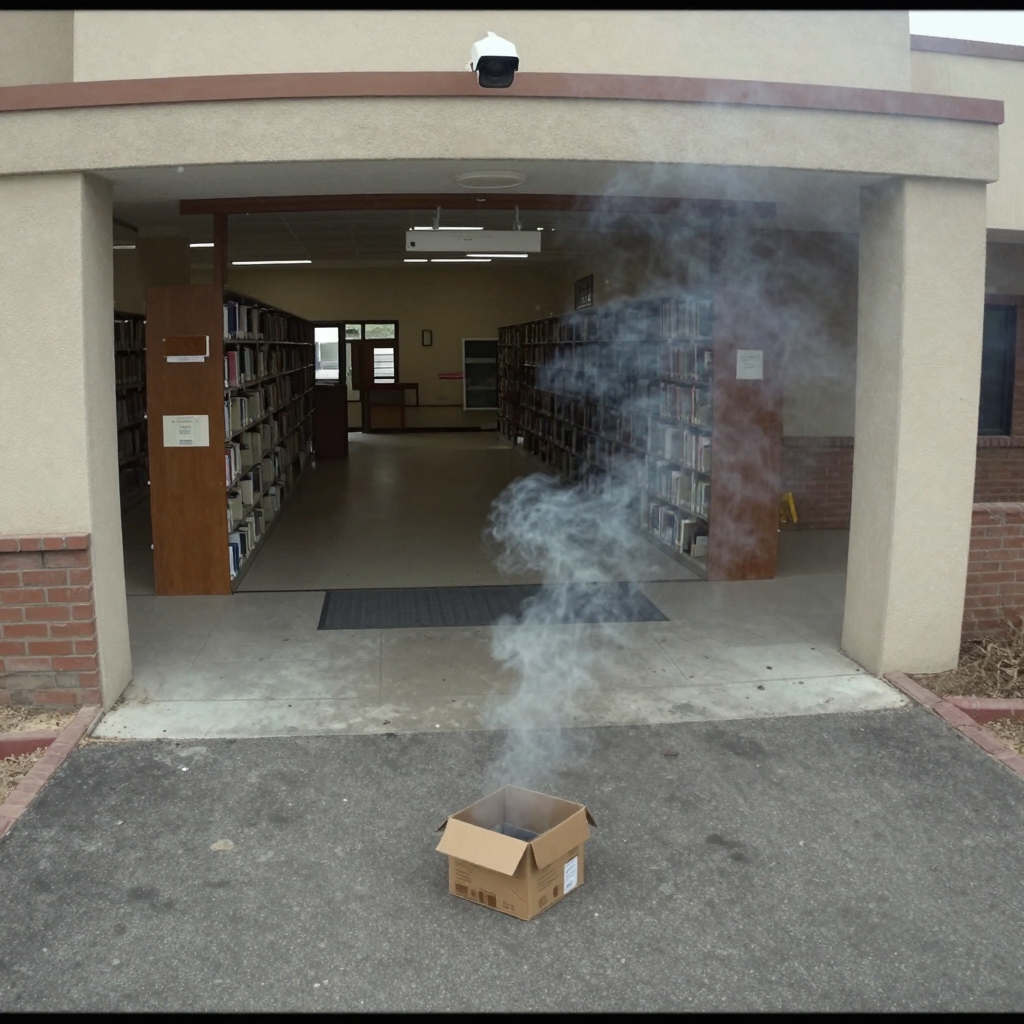Explosion: (475, 142, 901, 787)
